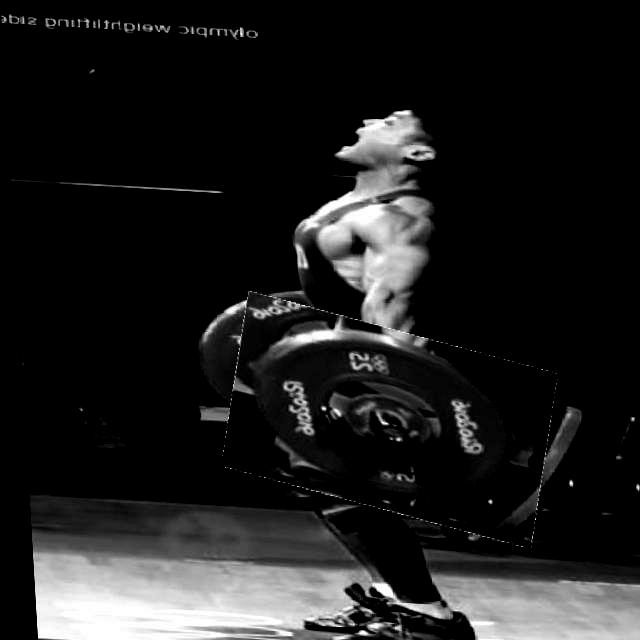barbell: (217, 302, 554, 529)
